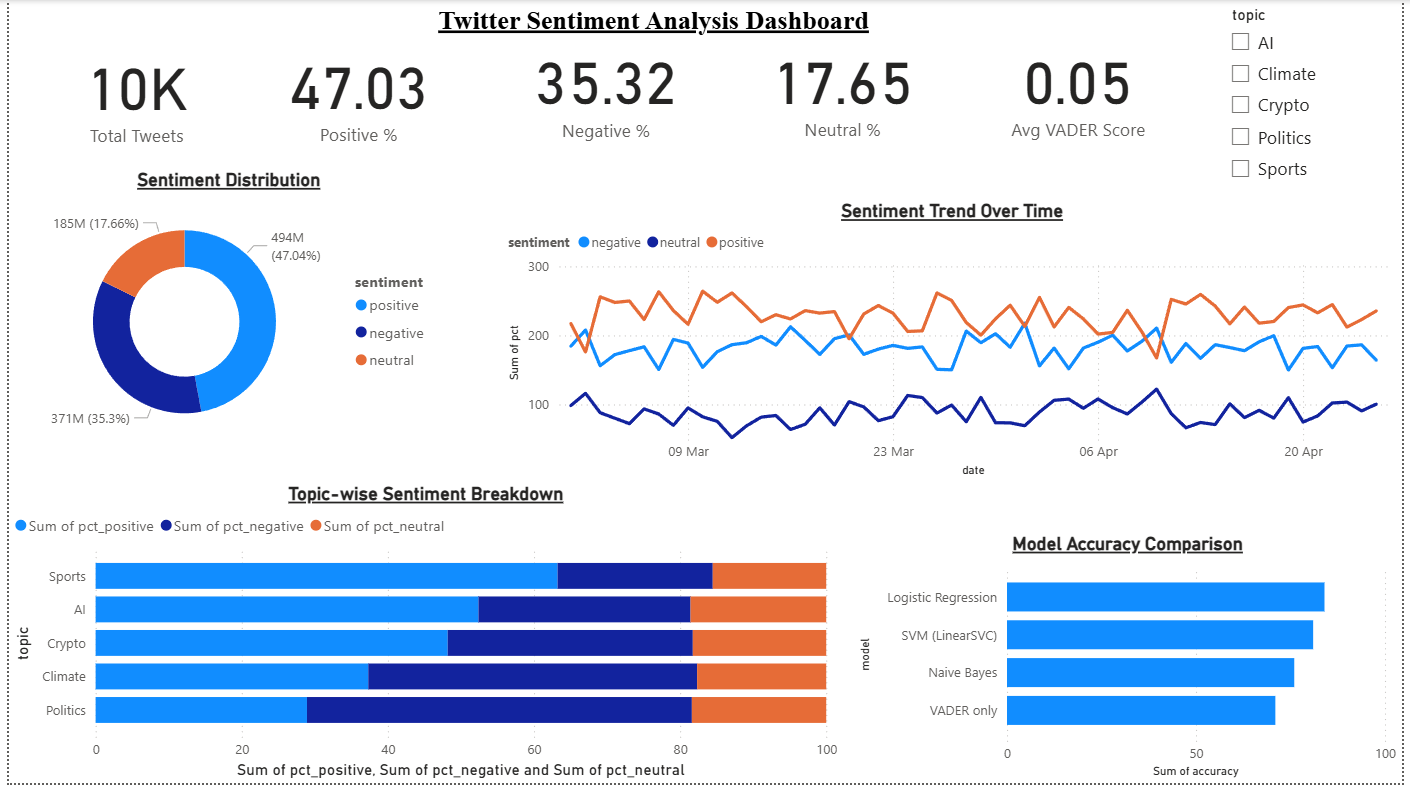

What the dashboard file says about the page in this screenshot:
{"tool":"powerbi","page":{"name":"Page 1","canvas":[1280,720],"ordinal":0},"visuals":[{"type":"card","fields":{"Values":["Fact_Tweets.Total Tweets"]},"box":[9.6,0,216.9,171.4],"z":0},{"type":"card","fields":{"Values":["Fact_Tweets.Positive %"]},"box":[226.5,0,190.6,170.2],"z":1000},{"type":"card","fields":{"Values":["Fact_Tweets.Negative %"]},"box":[444.6,1.2,208.5,159.4],"z":2000},{"type":"card","fields":{"Values":["Fact_Tweets.Neutral %"]},"box":[667.6,0,197.8,160.6],"z":3000},{"type":"card","fields":{"Values":["Fact_Tweets.Avg VADER Score"]},"box":[884.5,0,196.6,160.6],"z":4000},{"type":"donutChart","title":"Sentiment Distribution","fields":{"Category":["Fact_Tweets.sentiment"],"Y":["Sum(Fact_Tweets.tweet_id)"]},"box":[0,154.6,403.9,262.5],"z":5000},{"type":"slicer","fields":{"Values":["Fact_Tweets.topic"]},"box":[1110.8,0,168.9,224],"z":6000},{"type":"barChart","title":"Topic-wise Sentiment Breakdown","fields":{"Category":["Topic_KPIs.topic"],"Y":["Sum(Topic_KPIs.pct_positive)","Sum(Topic_KPIs.pct_negative)","Sum(Topic_KPIs.pct_neutral)"]},"box":[0,443.4,766.2,276.8],"z":7000},{"type":"clusteredBarChart","title":"Model Accuracy Comparison","fields":{"Category":["Model_Metrics.model"],"Y":["Sum(Model_Metrics.accuracy)"]},"box":[776.5,489.3,503.1,230.9],"z":8000},{"type":"lineChart","title":"Sentiment Trend Over Time","fields":{"Category":["Daily_Sentiment.date"],"Y":["Sum(Daily_Sentiment.pct)"],"Series":["Daily_Sentiment.sentiment"]},"box":[453.7,183.8,825.9,259.6],"z":8001},{"type":"textbox","box":[389.4,0,425,41.4],"z":8002}]}

Visuals, with their boxes in screenshot pixels (x1, y1, x2, y2), scaled from the page's 1280x720 canvas onto the 1410x789 screenshot:
card - Fact_Tweets.Total Tweets: box=[11, 0, 250, 188]
card - Fact_Tweets.Positive %: box=[250, 0, 459, 187]
card - Fact_Tweets.Negative %: box=[490, 1, 719, 176]
card - Fact_Tweets.Neutral %: box=[735, 0, 953, 176]
card - Fact_Tweets.Avg VADER Score: box=[974, 0, 1191, 176]
"Sentiment Distribution" donutChart: box=[0, 169, 445, 457]
slicer - Fact_Tweets.topic: box=[1224, 0, 1409, 245]
"Topic-wise Sentiment Breakdown" barChart: box=[0, 486, 844, 788]
"Model Accuracy Comparison" clusteredBarChart: box=[855, 536, 1409, 788]
"Sentiment Trend Over Time" lineChart: box=[500, 201, 1409, 486]
textbox: box=[429, 0, 897, 45]
